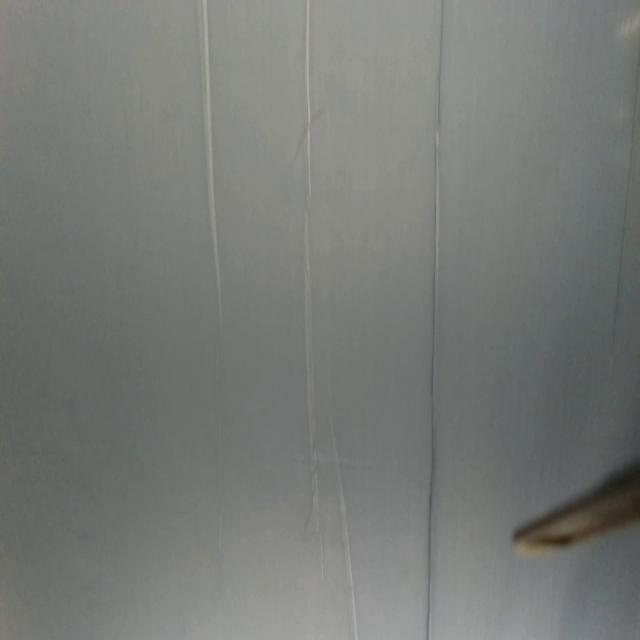crease: (302, 2, 328, 594), (425, 0, 446, 639), (194, 0, 225, 329), (611, 49, 640, 346), (328, 419, 360, 640)
